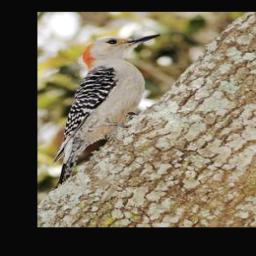Woodpecker: (44, 26, 165, 194)
